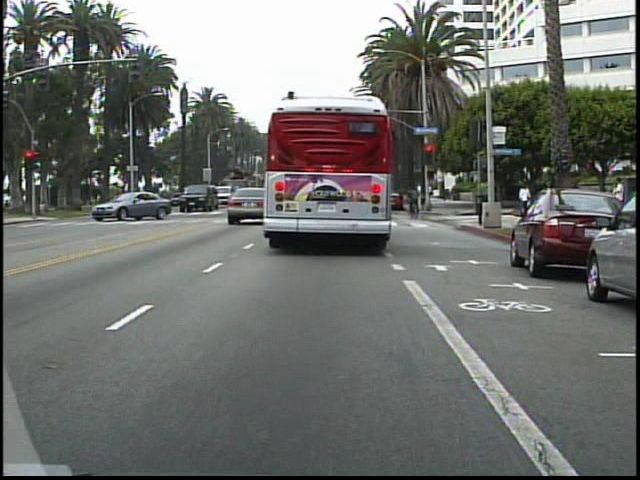person: (609, 175, 627, 222), (404, 182, 425, 217), (517, 181, 534, 219)
